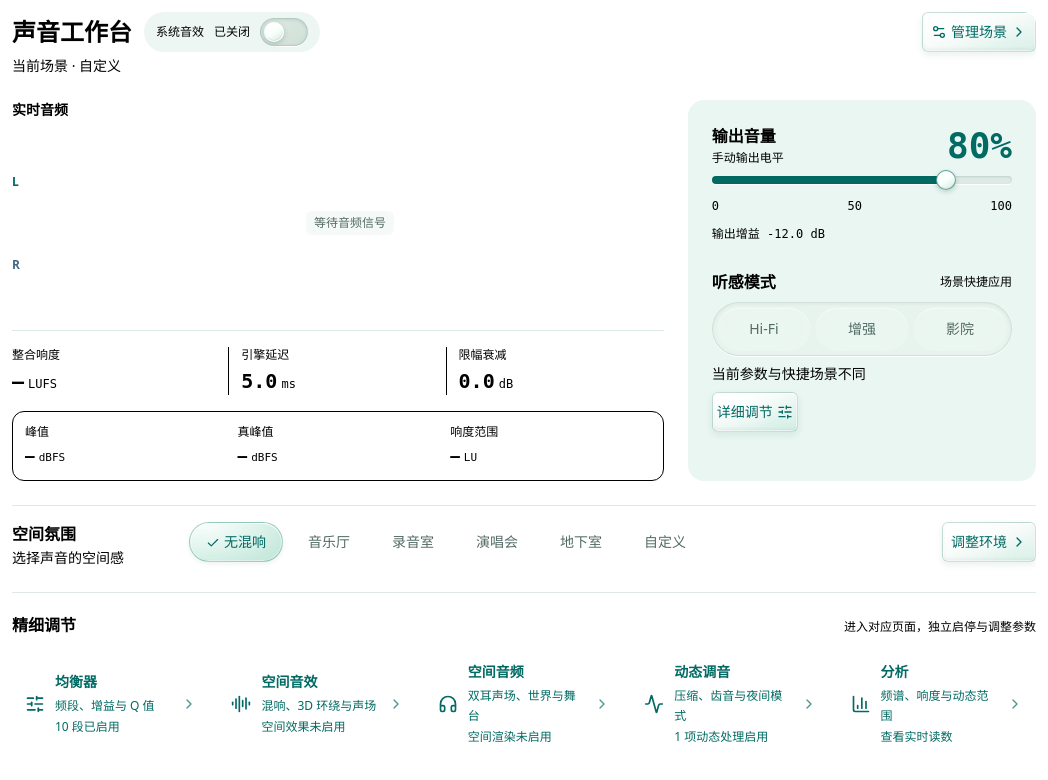
Scenario: HSE 首页 › 负增益也按 minGainDb 显示，最小音量明确标出 -60 dB
Check: the text "输出增益 -12.0 dB" is shown, box x1=712 y1=226 x2=825 y2=242
Step 1. Set the slider named "输出音量" to "0" → x=720, y=180, box x1=712 y1=176 x2=1012 y2=184
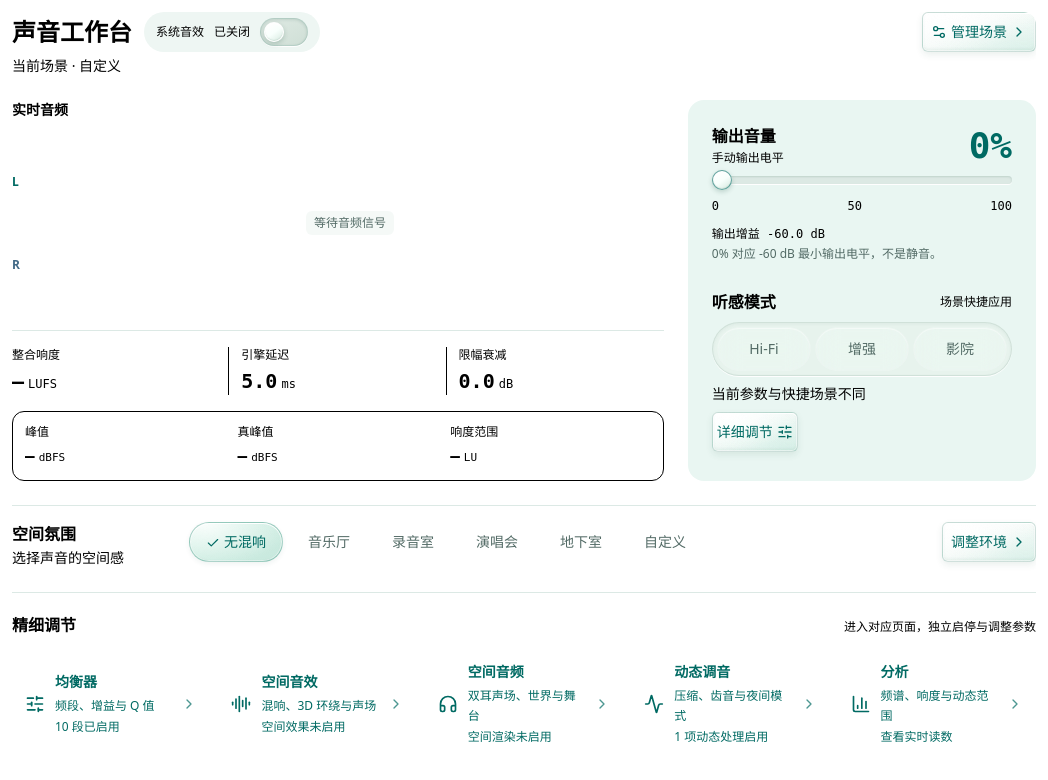
Check: the text "0% 对应 -60 dB 最小输出电平，不是静音。" is shown, box x1=712 y1=245 x2=942 y2=262
